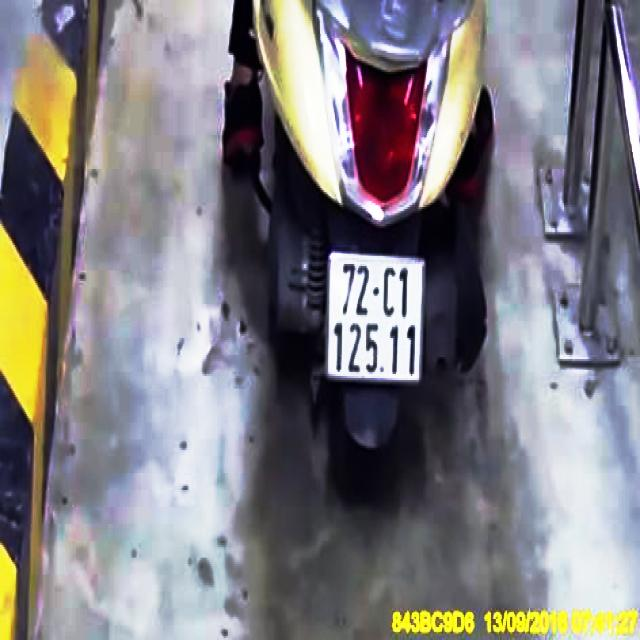license_plate: (327, 256, 425, 384)
